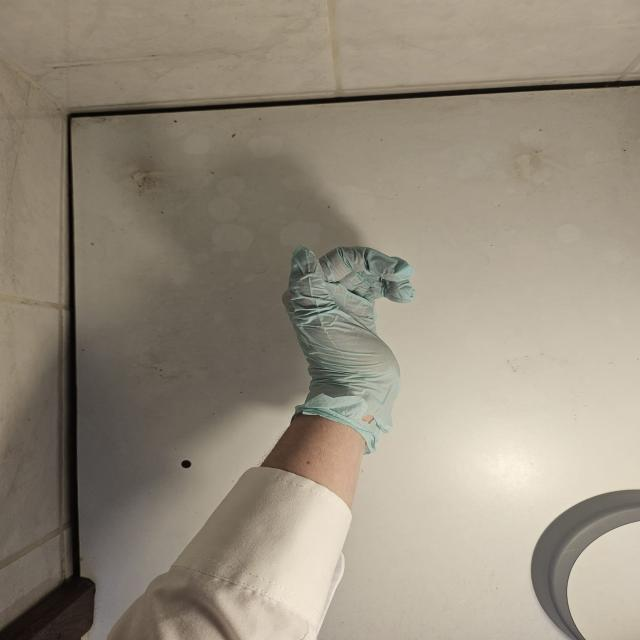gloves_damaged: (280, 242, 416, 456)
